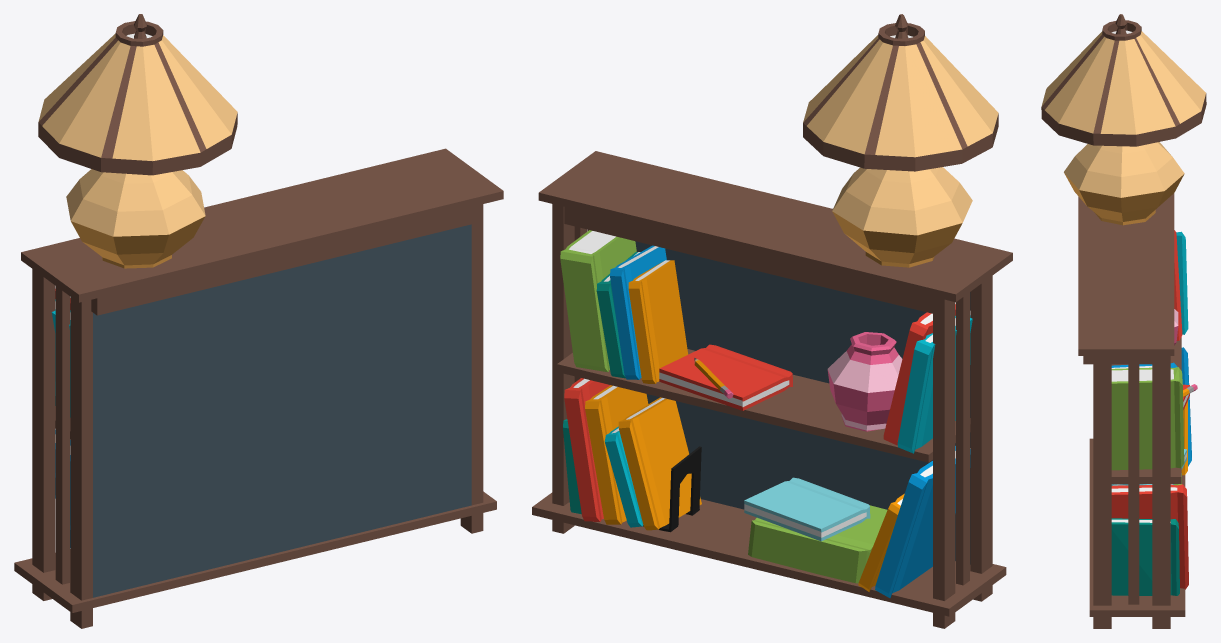
File: Little Bookcase.gltf
3 views of the same model, side by side, from view 1: azimuth 30°, elevation 25°; view 2: azimuth 150°, elevation 25°; view 3: azimuth 270°, elevation 25° (orthographic). The views are drawn at different scales.
Visible parts, largest first — view 1: group187267960; view 2: group187267960; view 3: group187267960.
Boxes of the visible parts, x1=… form: group187267960: x1=14, y1=14, x2=503, y2=628; group187267960: x1=532, y1=14, x2=1012, y2=628; group187267960: x1=1041, y1=14, x2=1206, y2=628.
Bounding box in the file's own units: 1.1 × 1.44 × 0.4475.
